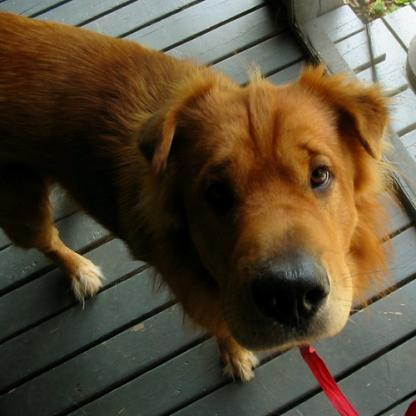dog: (0, 8, 409, 384)
